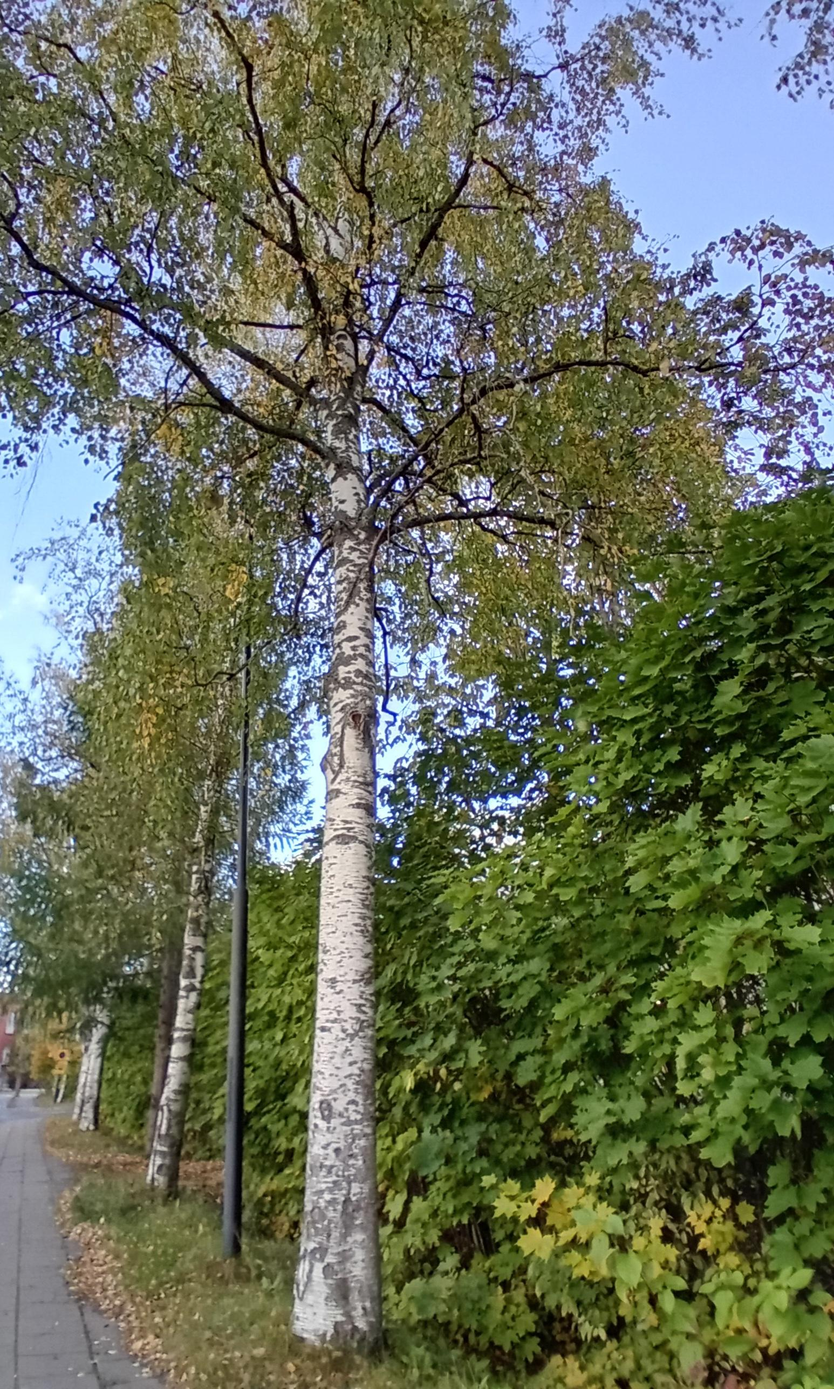Birch: (2, 1, 831, 1357), (19, 0, 672, 1364)
